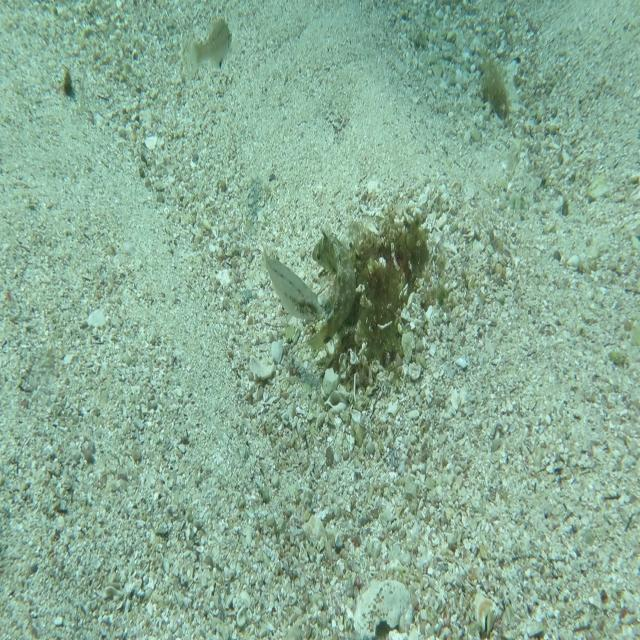BEND: (301, 222, 359, 363)
female: (259, 244, 324, 327), (186, 17, 234, 86)
nest: (304, 192, 440, 412)
